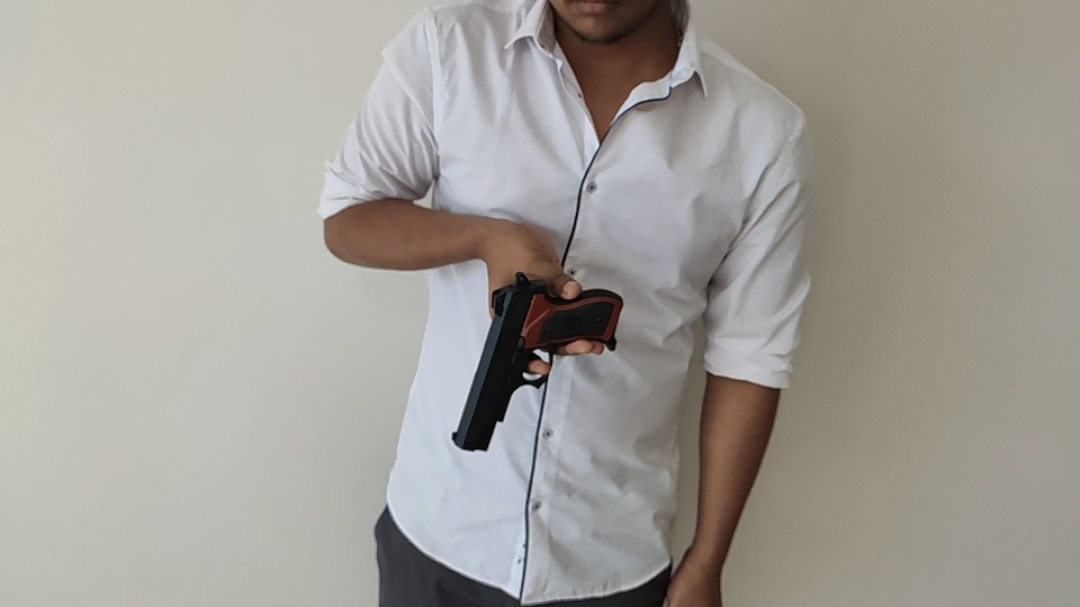gun: (451, 269, 624, 451)
